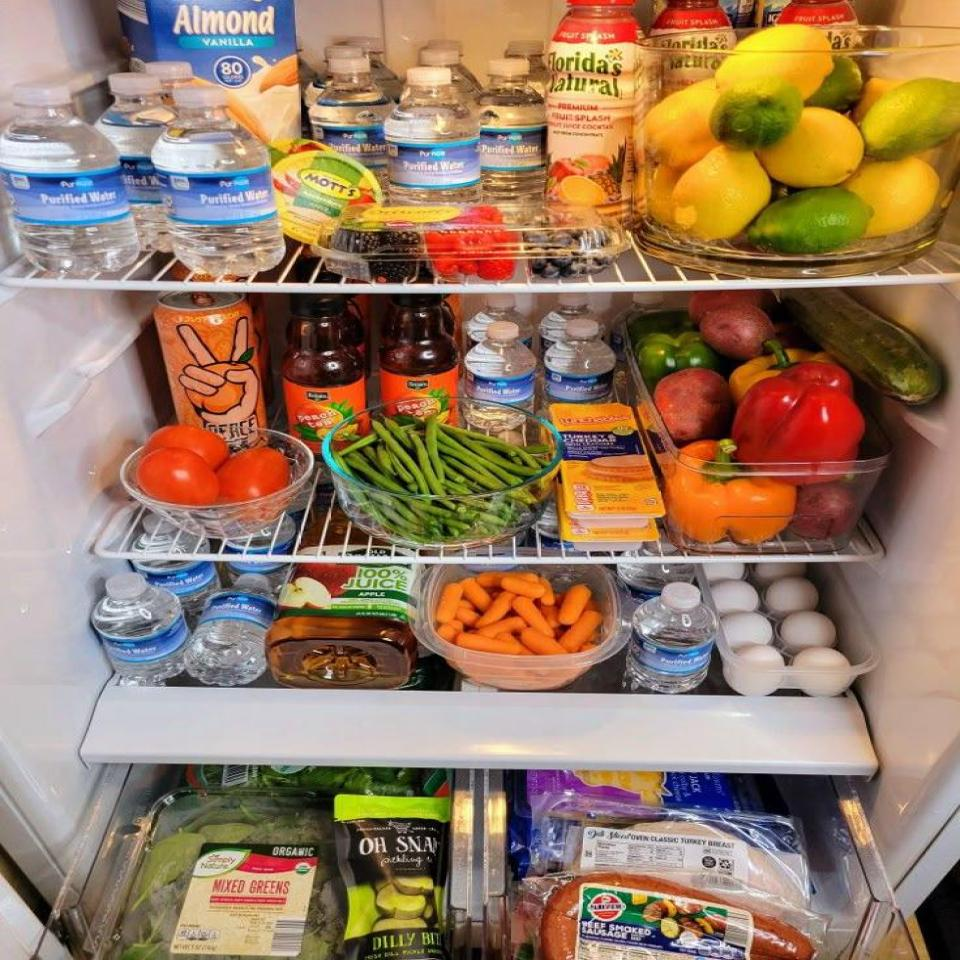Huevos: (707, 562, 880, 697)
Limón: (668, 145, 770, 241), (711, 25, 836, 98), (759, 107, 866, 188), (844, 157, 944, 236), (645, 81, 726, 168)
Pepino: (773, 285, 960, 411)
Tomate: (220, 446, 296, 518), (135, 450, 221, 509), (141, 424, 230, 468)
Zanahoria: (430, 572, 608, 691)
